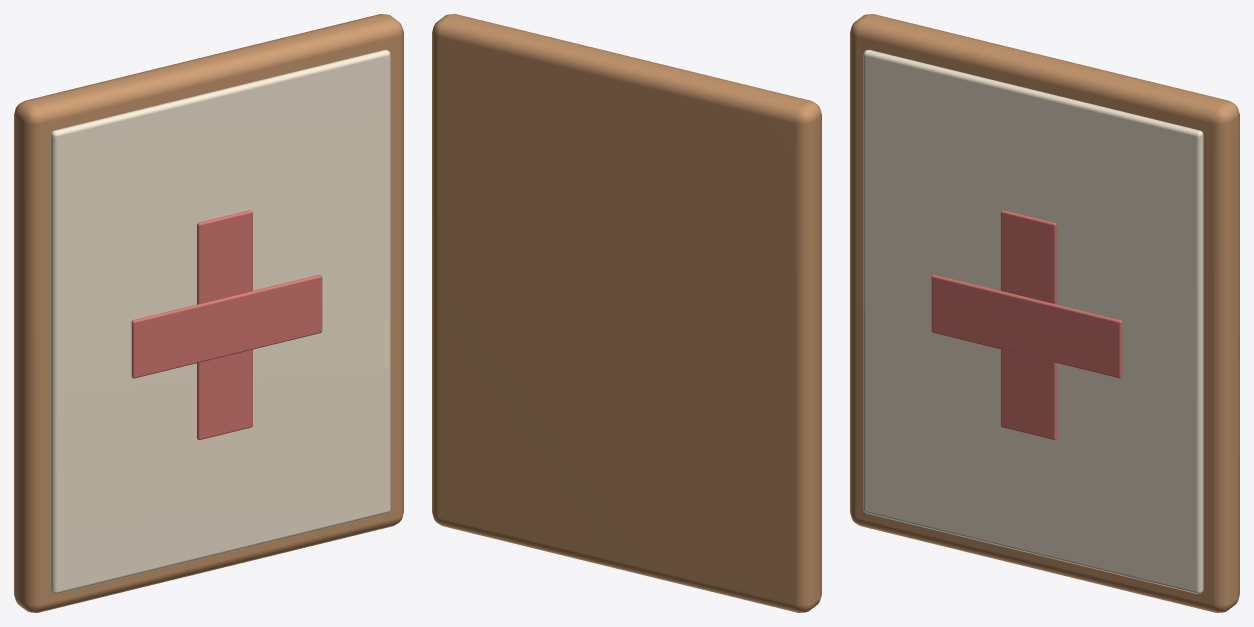
Rendered from posterFire.glb.
The picture shows the model from 3 angles, left to right: view 1: azimuth 30°, elevation 25°; view 2: azimuth 150°, elevation 25°; view 3: azimuth 330°, elevation 25°; orthographic projection.
Visible parts, largest first — view 1: Paper, Frame, Symbol horizontal, Symbol vertical; view 2: Frame; view 3: Paper, Frame, Symbol horizontal, Symbol vertical.
Boxes of the visible parts, left/top/right/bottom form: Paper: left=50, top=49, right=390, bottom=593; Frame: left=14, top=14, right=403, bottom=612; Symbol horizontal: left=131, top=274, right=322, bottom=378; Symbol vertical: left=197, top=210, right=252, bottom=439; Frame: left=432, top=14, right=821, bottom=612; Paper: left=863, top=49, right=1203, bottom=593; Frame: left=850, top=14, right=1239, bottom=612; Symbol horizontal: left=931, top=274, right=1122, bottom=378; Symbol vertical: left=1001, top=210, right=1056, bottom=439.
Bounding box in the file's own units: 1.1 × 1.4 × 0.146.
